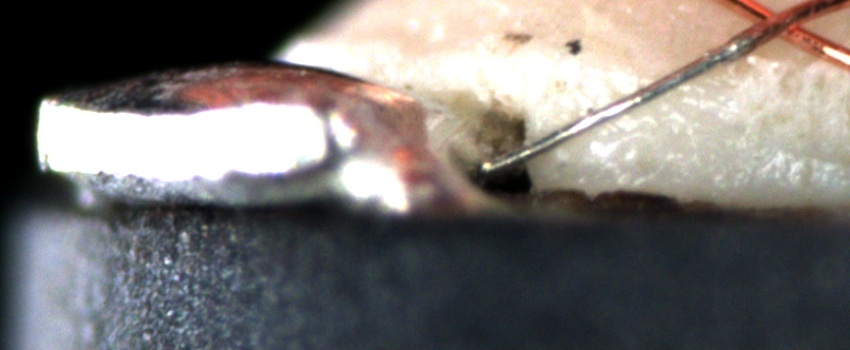CL: (739, 1, 820, 47)
TS: (479, 33, 751, 173)
